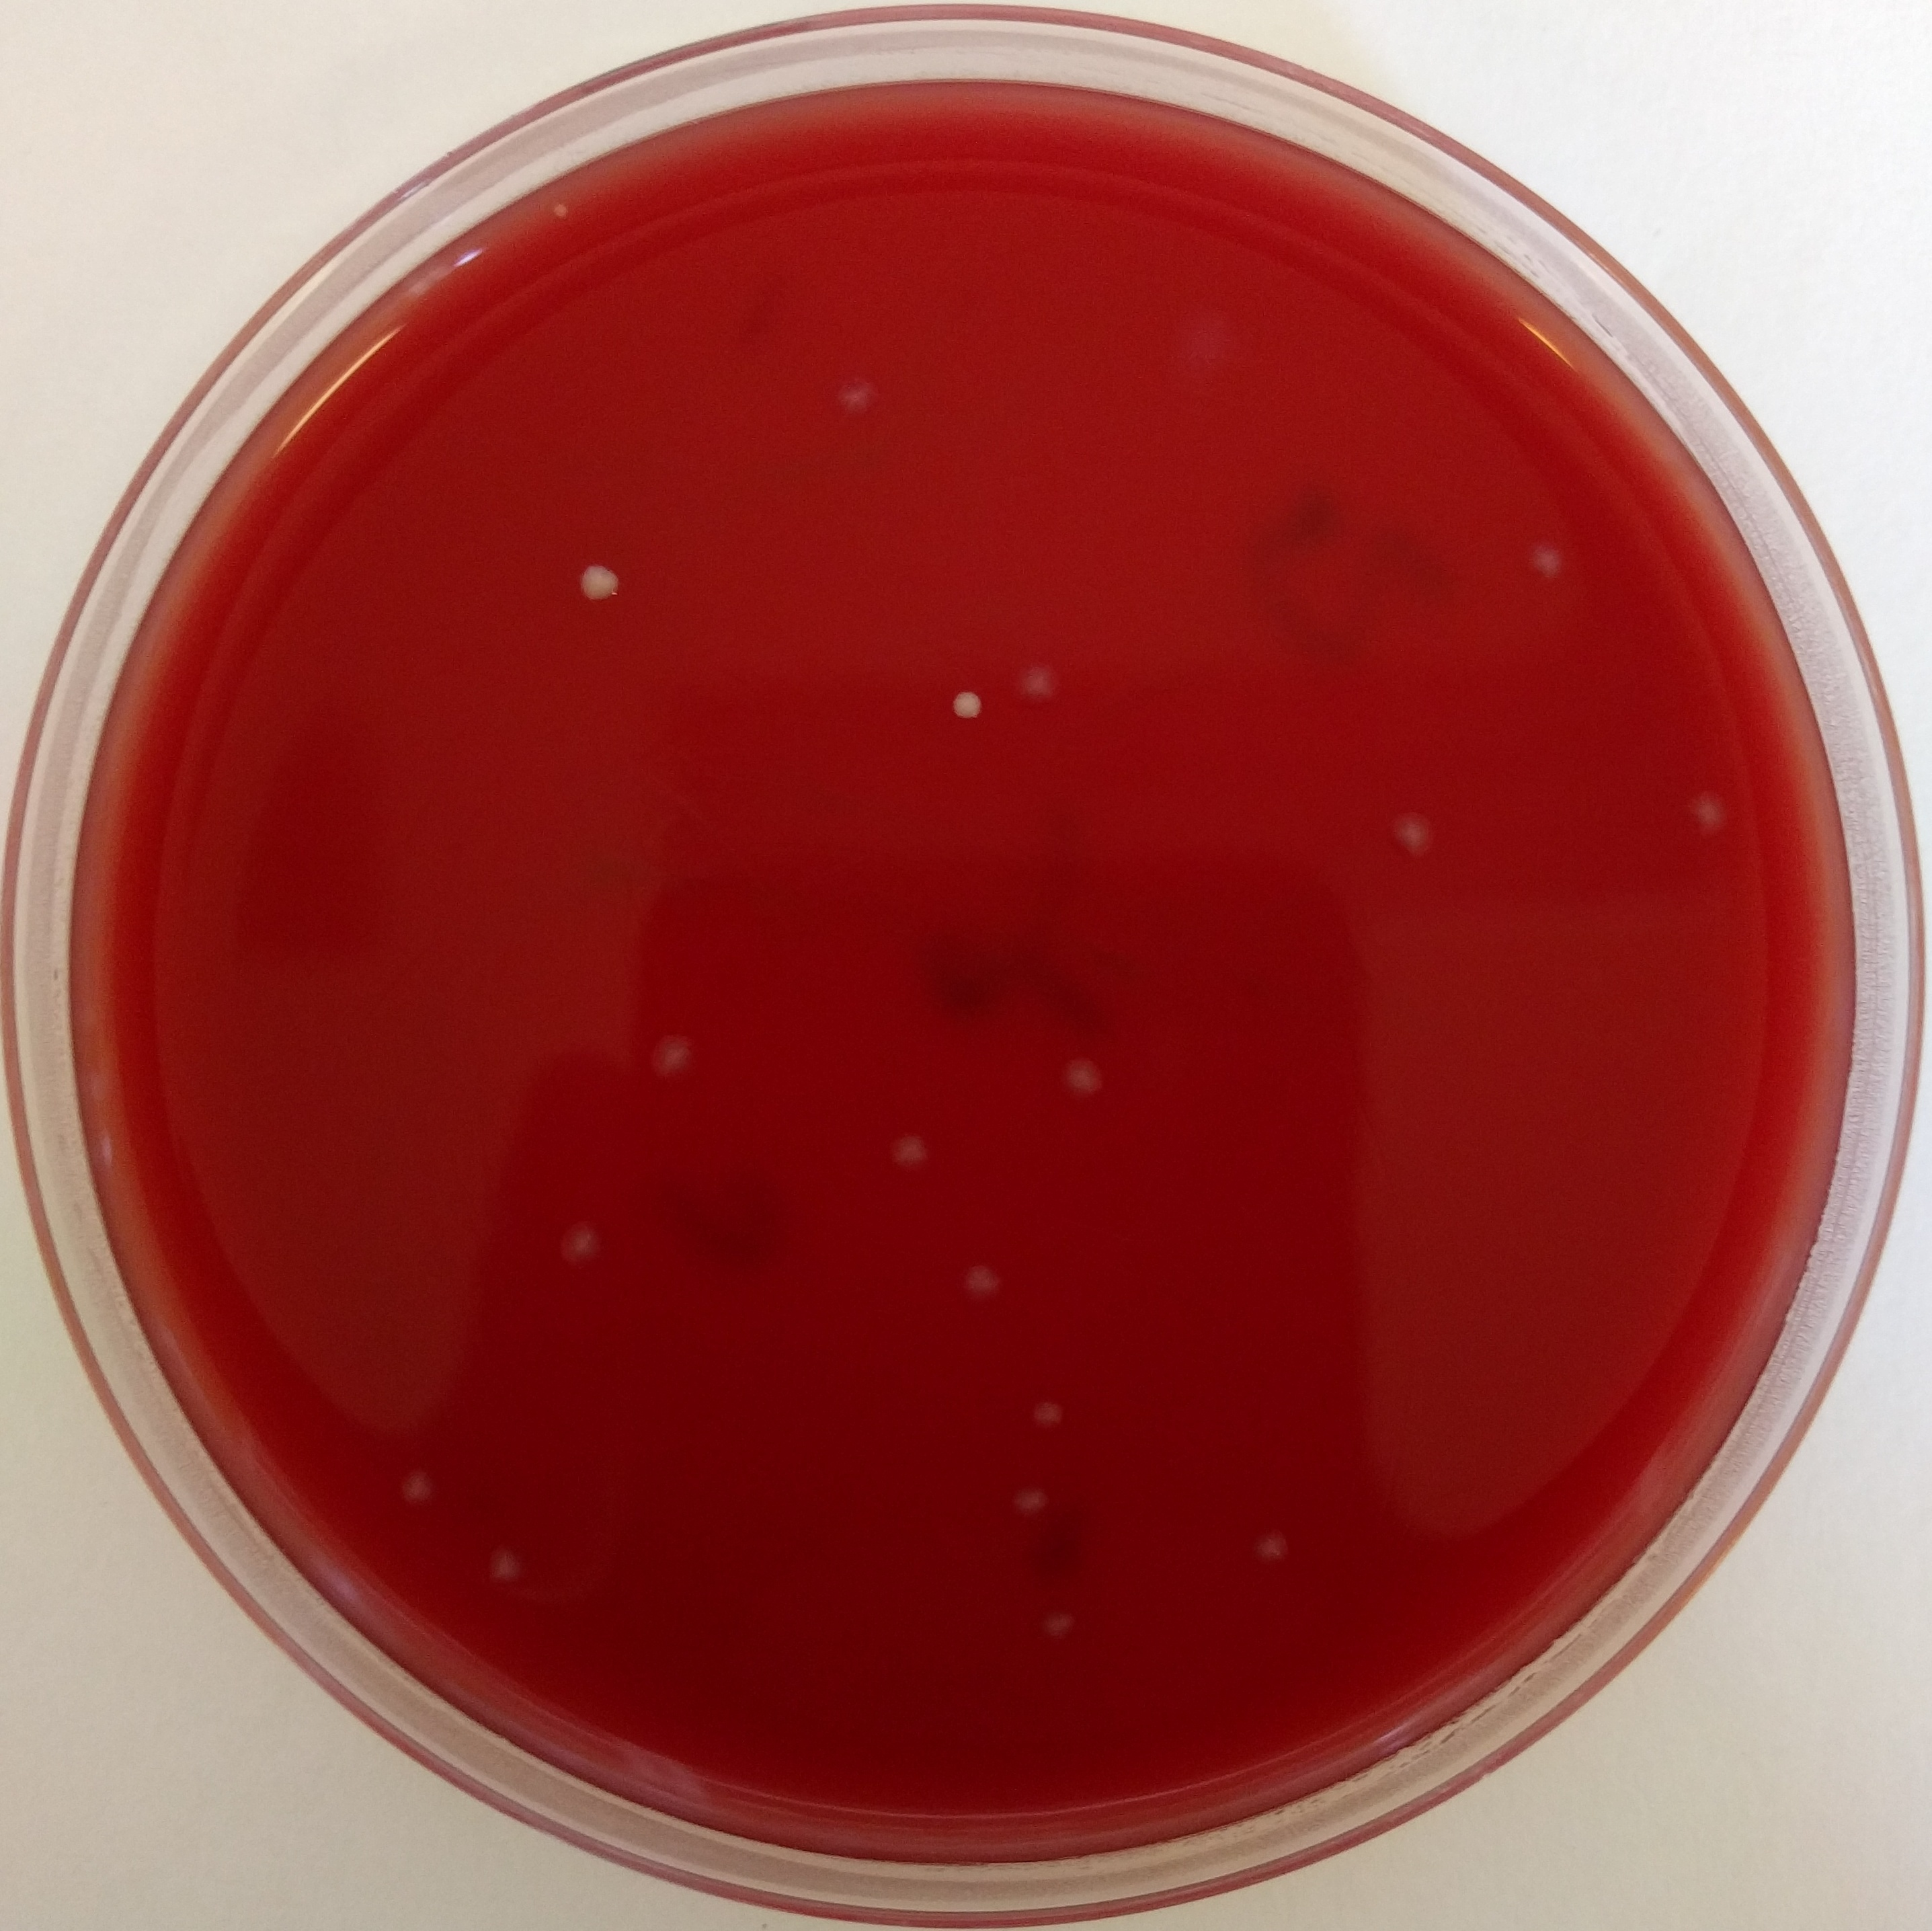sp18: (332, 1425, 470, 1530), (536, 1195, 649, 1289), (882, 1102, 967, 1224), (539, 545, 643, 621), (912, 668, 997, 753), (1683, 760, 1755, 847), (1023, 1581, 1108, 1653), (1053, 1036, 1144, 1103), (1015, 645, 1087, 727), (1250, 1501, 1320, 1583), (1373, 787, 1449, 859), (629, 1022, 711, 1080), (1524, 522, 1582, 598), (820, 340, 887, 403), (483, 1540, 537, 1607), (953, 1257, 1015, 1312), (1018, 1381, 1078, 1431), (1006, 1475, 1059, 1524)
